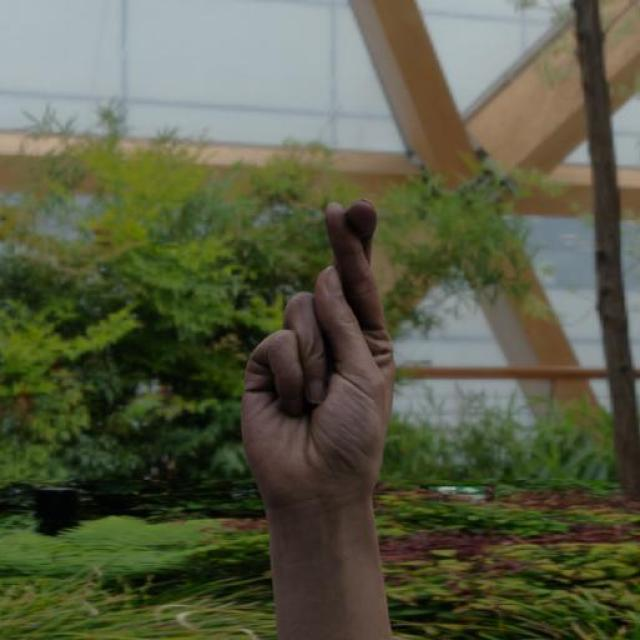R: (233, 191, 401, 534)
